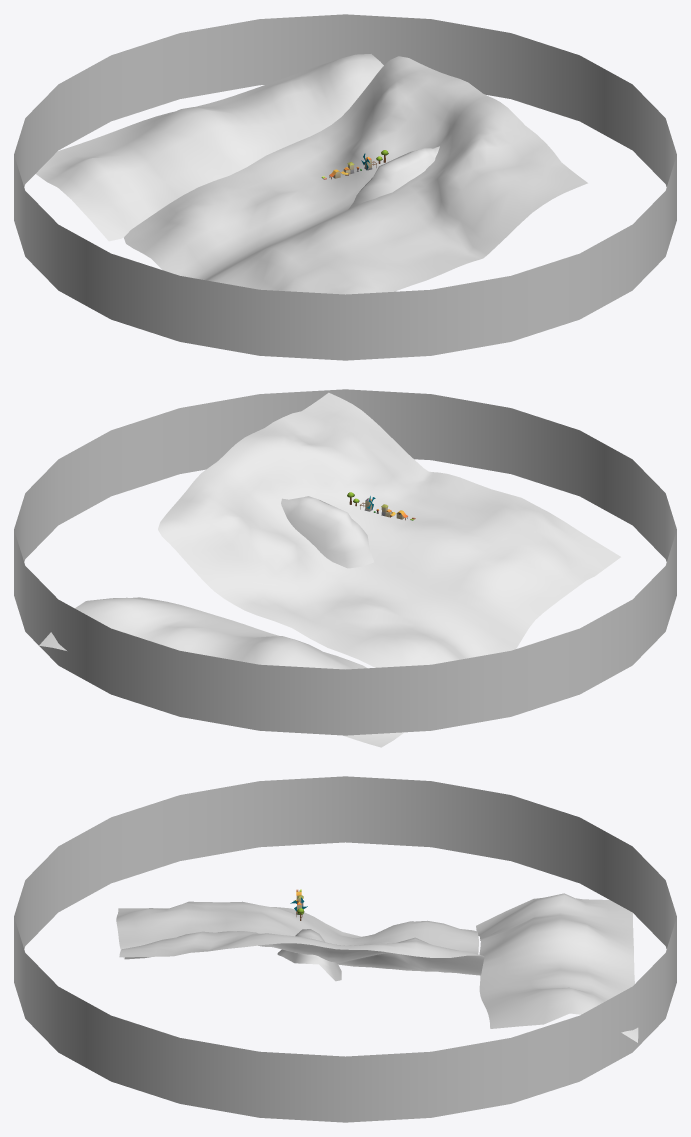
The picture shows the model from 3 angles, top to bottom: view 1: azimuth 30°, elevation 25°; view 2: azimuth 150°, elevation 25°; view 3: azimuth 270°, elevation 25°; orthographic projection.
Parts seen in each view (by area): view 1: plane_tr, Ground, nuiBG, Nuiroi; view 2: plane_tr, Ground, nuiBG, Nuiroi; view 3: plane_tr, nuiBG, Ground, Nuiroi.
Part boxes in pixels (x1=…): plane_tr: x1=14, y1=14, x2=676, y2=360; Ground: x1=124, y1=56, x2=587, y2=294; nuiBG: x1=36, y1=54, x2=383, y2=241; Nuiroi: x1=348, y1=146, x2=439, y2=209; plane_tr: x1=14, y1=389, x2=676, y2=735; Ground: x1=158, y1=392, x2=620, y2=667; nuiBG: x1=39, y1=597, x2=403, y2=747; Nuiroi: x1=281, y1=496, x2=373, y2=568; plane_tr: x1=14, y1=776, x2=676, y2=1122; nuiBG: x1=476, y1=893, x2=638, y2=1042; Ground: x1=116, y1=901, x2=484, y2=975; Nuiroi: x1=277, y1=929, x2=341, y2=981.
Size of the model in its own units: 408 by 92.06 by 408.
